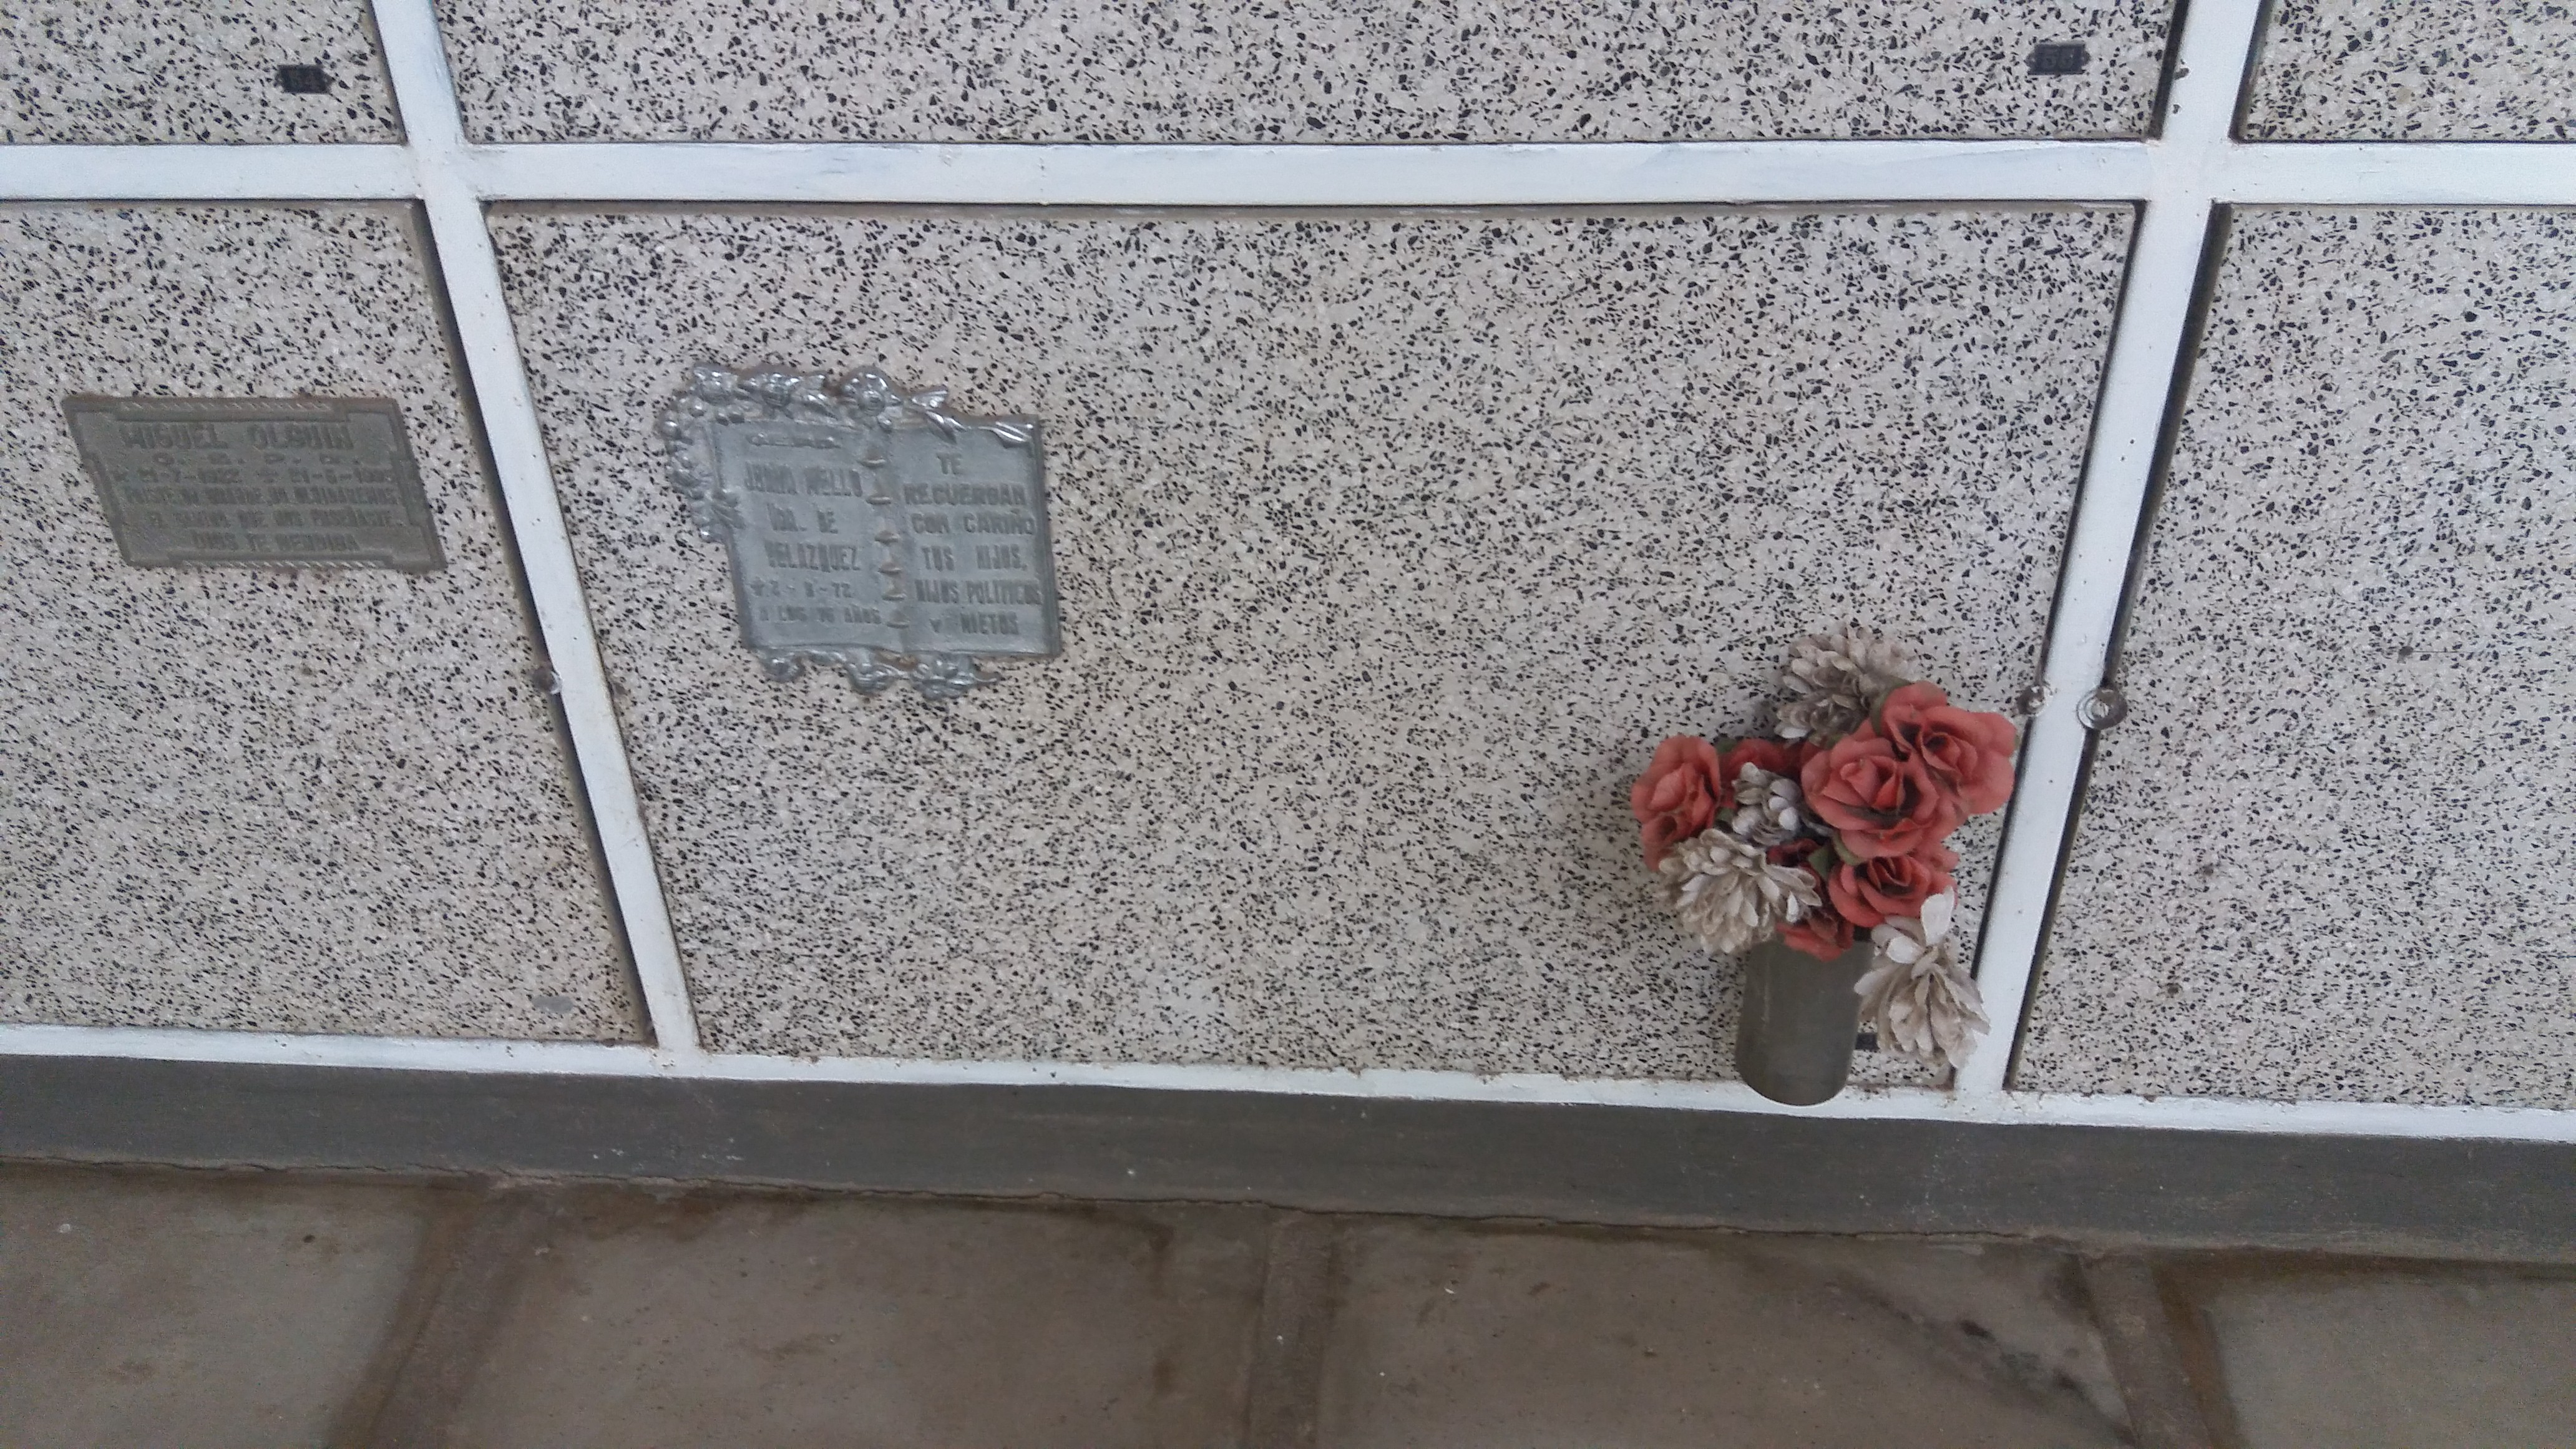plaque: (464, 173, 2143, 1100)
